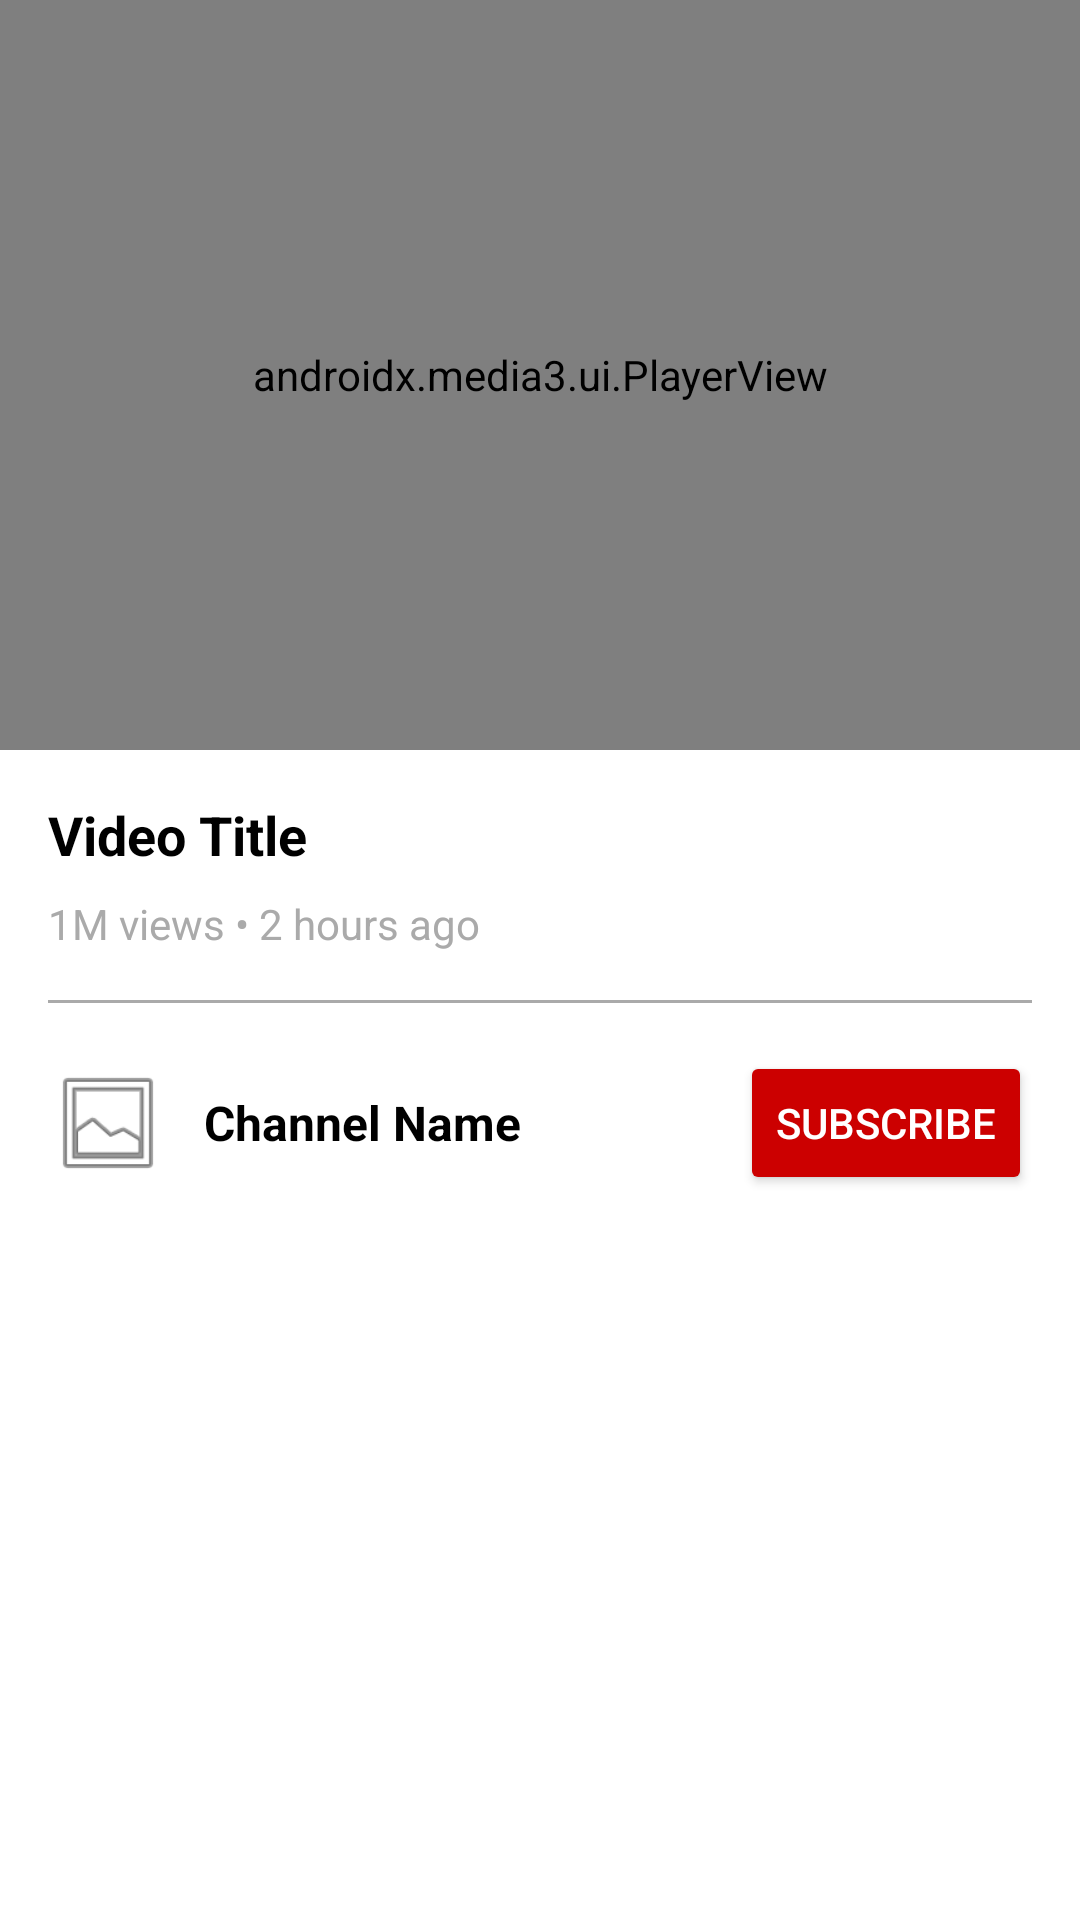

Icons on this 1080 × 1920 Android screen, each with its box as (x1, y1, x2, y2):
gallery: (63, 1078, 153, 1168)
